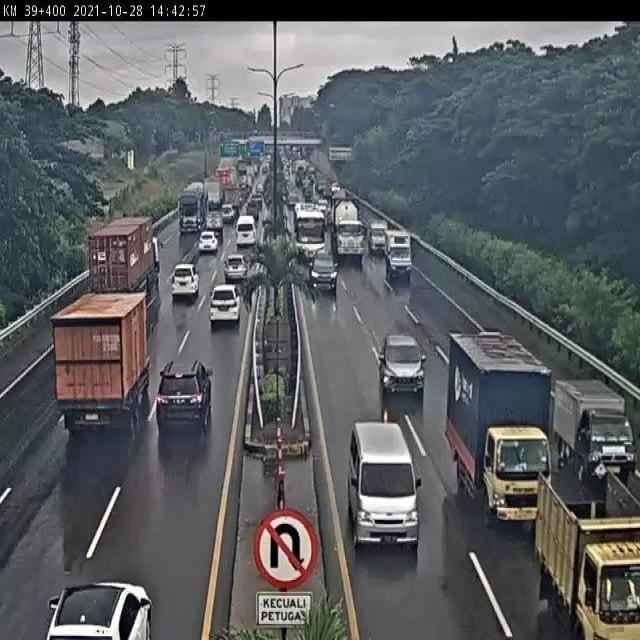big truck: (65, 283, 161, 413), (101, 211, 172, 305)
bus-s-: (349, 420, 422, 556)
car: (64, 530, 168, 640), (163, 345, 219, 416), (380, 330, 429, 402), (217, 265, 246, 308), (310, 251, 338, 293), (181, 249, 208, 287), (228, 239, 247, 264), (200, 229, 219, 252)
truck-m-: (448, 331, 555, 525)
truck-s-: (553, 380, 639, 477), (385, 231, 412, 281)
